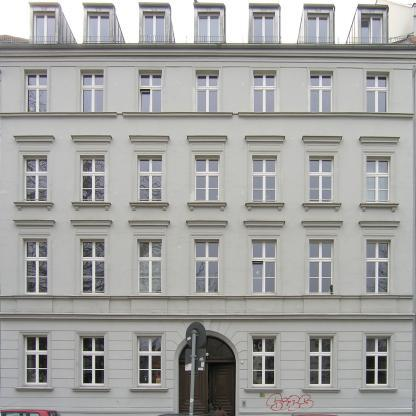Building Outline: (0, 0, 416, 416)
Cornice: (12, 134, 56, 150), (69, 134, 114, 149), (69, 219, 114, 234), (127, 135, 171, 150), (300, 135, 344, 150), (12, 219, 56, 234), (358, 220, 402, 235), (300, 220, 344, 235), (127, 220, 170, 235), (243, 220, 286, 235), (186, 135, 228, 150), (244, 135, 286, 150), (186, 220, 228, 235), (358, 136, 402, 150), (357, 3, 389, 9), (27, 1, 59, 6), (138, 2, 170, 7), (193, 2, 225, 7), (82, 2, 113, 7), (249, 2, 280, 7), (304, 3, 335, 8)
Door: (177, 335, 236, 416)
Facade: (0, 0, 415, 415)
Floor: (0, 227, 413, 312), (0, 51, 413, 135), (0, 142, 413, 220)
Floor Slab: (0, 43, 413, 51), (0, 135, 413, 143), (0, 312, 413, 319), (0, 220, 413, 227)
Ground Floor: (0, 320, 413, 415)
Molding: (0, 53, 416, 64), (0, 312, 416, 319)
Sill: (237, 112, 415, 119), (0, 112, 118, 117), (122, 112, 234, 117), (70, 201, 112, 211), (301, 202, 342, 212), (187, 202, 227, 212), (129, 201, 169, 211), (245, 202, 285, 212), (12, 202, 55, 211), (359, 203, 401, 212), (71, 387, 112, 392), (243, 388, 284, 393), (301, 388, 342, 393), (128, 388, 169, 392), (13, 387, 54, 391), (358, 388, 399, 392)
Top Floor: (305, 2, 334, 43), (30, 2, 59, 43), (84, 2, 113, 43), (140, 2, 169, 43), (195, 2, 224, 43), (249, 2, 278, 43)
Window: (367, 239, 392, 294), (137, 239, 162, 294), (80, 239, 105, 294), (252, 239, 277, 294), (309, 239, 334, 294), (23, 238, 47, 294), (195, 239, 219, 294), (252, 336, 277, 388), (310, 336, 335, 388), (80, 336, 105, 387), (23, 335, 47, 387), (366, 336, 390, 388), (137, 336, 161, 388), (367, 156, 392, 203), (195, 155, 220, 202), (252, 155, 277, 202), (309, 156, 334, 203), (137, 155, 162, 201), (80, 155, 105, 201), (23, 155, 47, 202), (310, 70, 334, 112), (24, 69, 47, 112), (139, 69, 162, 112), (196, 69, 219, 112), (81, 70, 104, 112), (254, 70, 277, 112), (367, 72, 390, 113), (33, 11, 55, 43), (143, 11, 165, 43), (87, 12, 109, 44), (361, 13, 383, 44), (198, 12, 220, 43), (253, 12, 275, 43), (308, 13, 330, 44)
